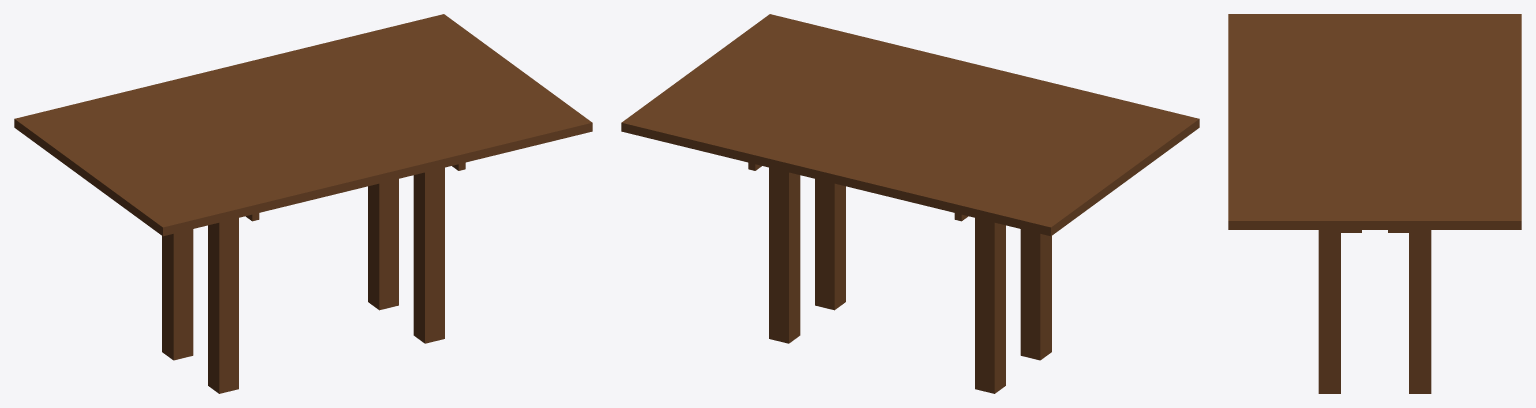
The model's file is Demo.obj.
3 views of the same model, side by side, from view 1: azimuth 30°, elevation 25°; view 2: azimuth 150°, elevation 25°; view 3: azimuth 270°, elevation 25° (orthographic).
Visible parts, largest first — view 1: top, leg_2, leg_1, leg_3, leg_4; view 2: top, leg_4, leg_3, leg_1, leg_2; view 3: top, leg_2, leg_4.
Part boxes in pixels (left/top/right/bottom): top: left=14, top=14, right=592, bottom=236; leg_2: left=413, top=167, right=444, bottom=343; leg_1: left=208, top=218, right=238, bottom=393; leg_3: left=162, top=229, right=193, bottom=360; leg_4: left=368, top=179, right=398, bottom=310; top: left=621, top=14, right=1199, bottom=236; leg_4: left=769, top=167, right=800, bottom=343; leg_3: left=975, top=218, right=1005, bottom=393; leg_1: left=1020, top=229, right=1051, bottom=360; leg_2: left=815, top=179, right=845, bottom=310; top: left=1228, top=14, right=1521, bottom=229; leg_2: left=1318, top=230, right=1340, bottom=393; leg_4: left=1409, top=230, right=1431, bottom=393.
Bounding box in the file's own units: 1.52 × 0.76 × 0.91.
